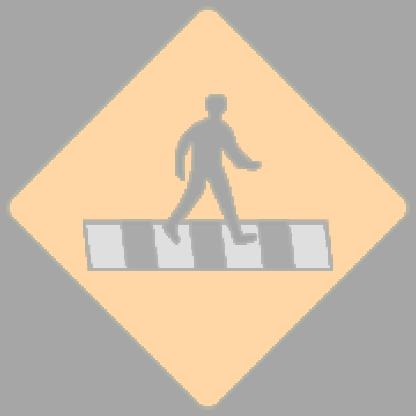Pedestrian Crossing: (21, 16, 396, 396)
